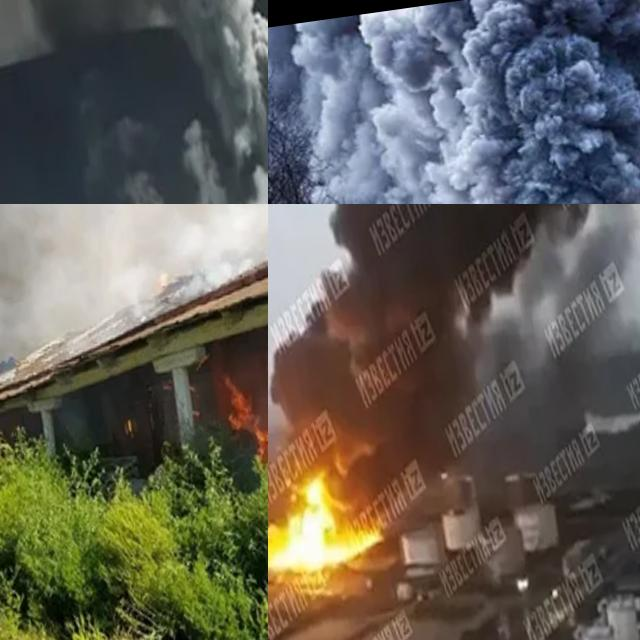smoke: (268, 204, 640, 537), (283, 0, 640, 204), (0, 0, 268, 204), (0, 204, 268, 301)
